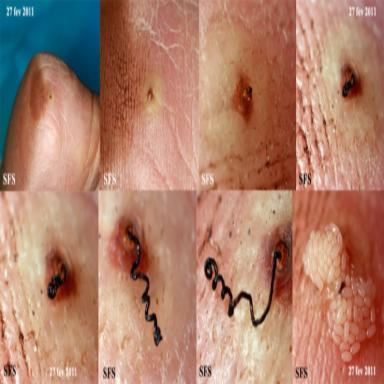Tungiasis: (203, 190, 293, 384), (10, 191, 99, 361), (98, 194, 190, 352), (302, 224, 376, 363), (202, 12, 272, 153), (320, 22, 383, 146), (140, 70, 164, 114), (47, 91, 55, 103)
